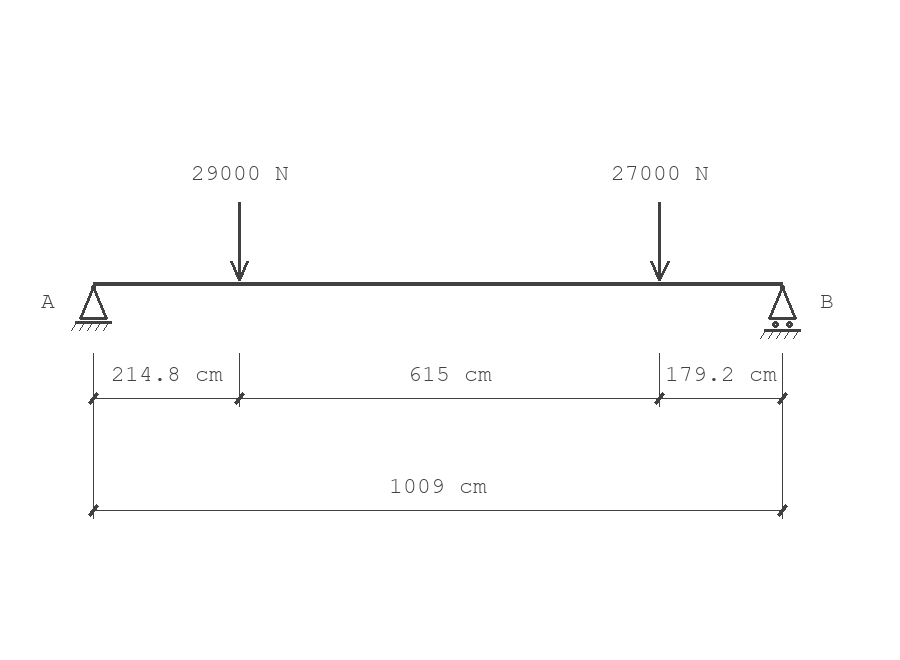pin_support: (71, 285, 112, 331)
point_load: (650, 202, 670, 281), (230, 202, 249, 281)
roller_support: (760, 285, 801, 339)
